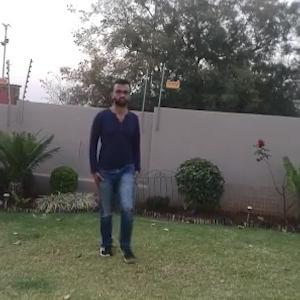follow: (92, 80, 141, 261)
